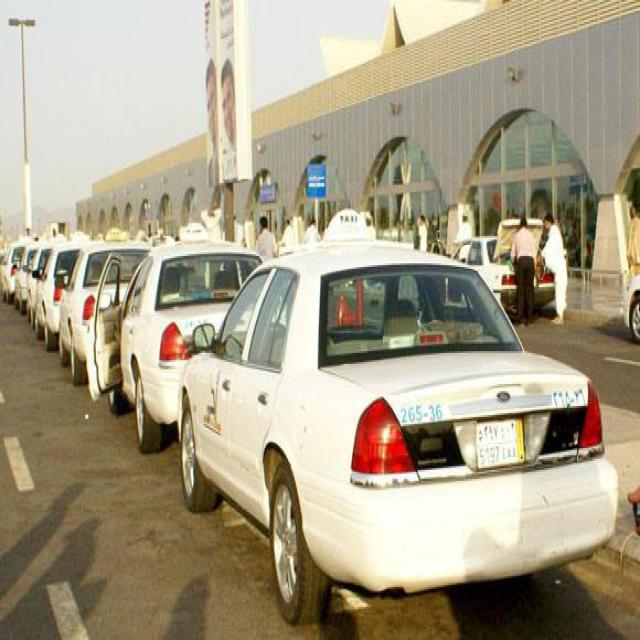license_plate: (475, 415, 524, 470)
